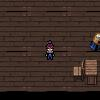Obstacle: (72, 57, 100, 86)
Victim: (44, 40, 56, 61)
Win: (89, 32, 100, 52)
